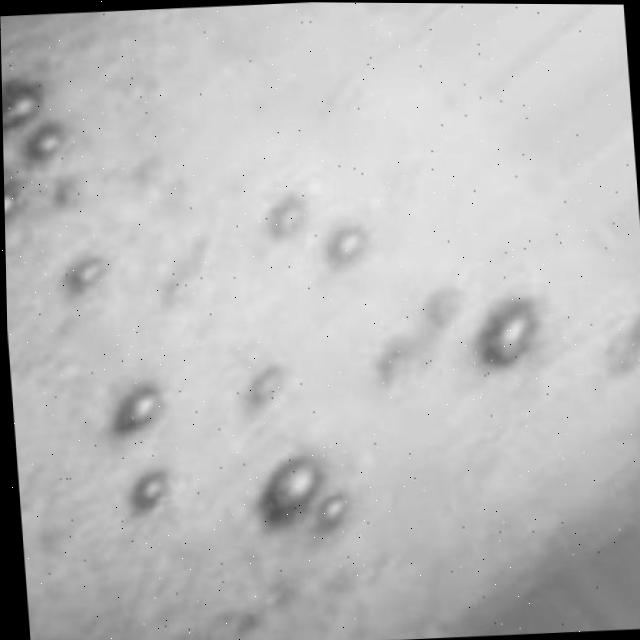Shingles: (471, 297, 544, 367), (261, 454, 324, 524), (107, 382, 164, 435), (2, 81, 46, 137), (322, 223, 371, 266), (126, 469, 171, 514), (243, 366, 288, 411), (265, 193, 310, 237), (61, 254, 109, 295), (24, 120, 69, 160), (4, 180, 26, 230), (323, 498, 347, 521), (638, 313, 640, 337)
